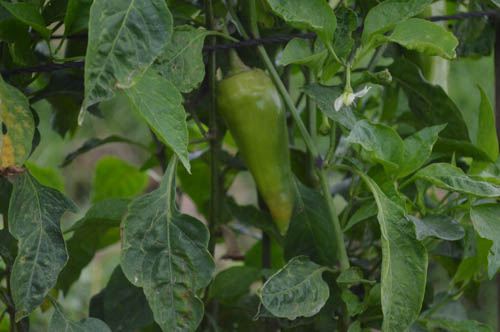ChiliPepper: (223, 69, 293, 235)
